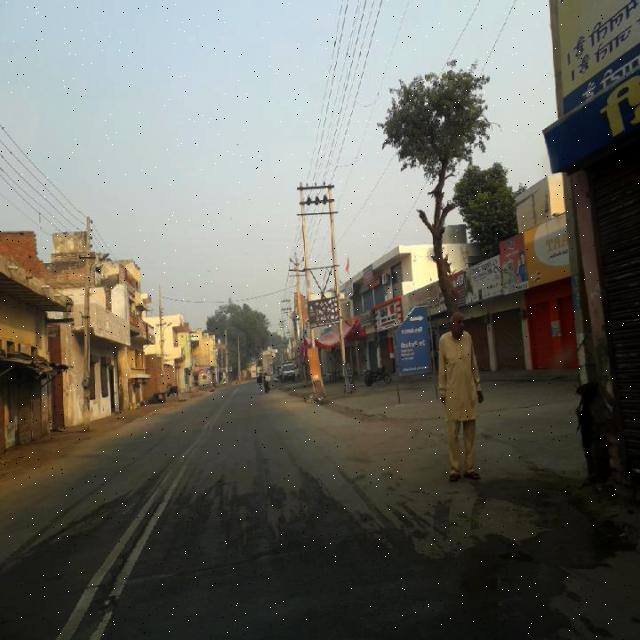D44: (161, 409, 225, 500)
